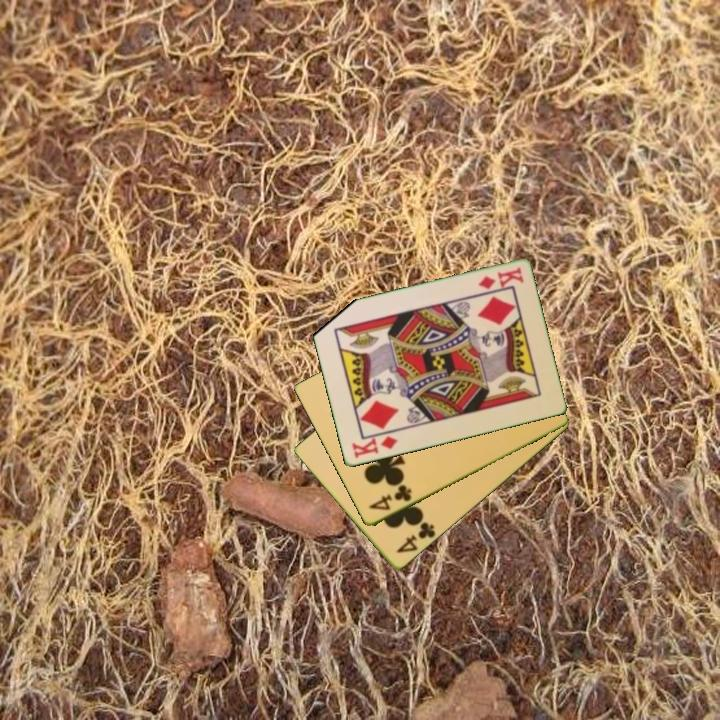4c: (393, 517, 438, 557), (365, 481, 415, 514)
Kd: (474, 264, 526, 293), (348, 433, 400, 461)
